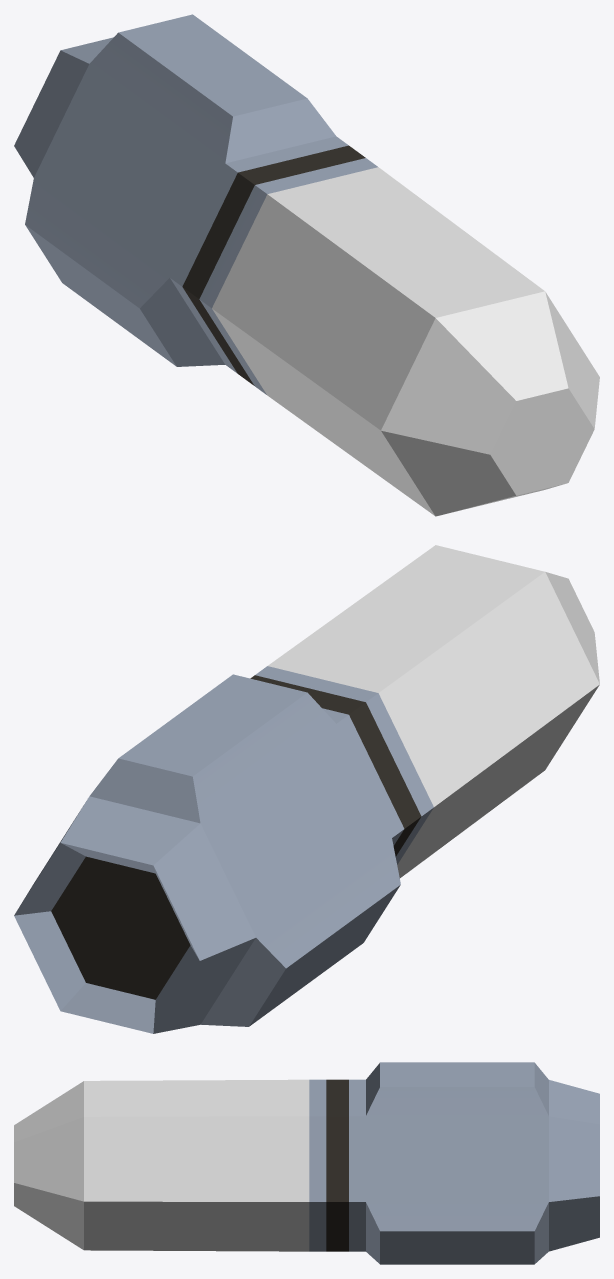
The model's file is 01_missile_grytes.glb.
3 renders of one model, top to bottom at view 1: azimuth 30°, elevation 25°; view 2: azimuth 150°, elevation 25°; view 3: azimuth 270°, elevation 25°, orthographic. The views are drawn at different scales.
Parts seen in each view (by area): view 1: 01_missile_grytes; view 2: 01_missile_grytes; view 3: 01_missile_grytes.
Part boxes in pixels (box(x1,y1,x2,y2)): 01_missile_grytes: box(14, 14, 599, 516); 01_missile_grytes: box(14, 545, 599, 1033); 01_missile_grytes: box(14, 1062, 599, 1264).
Bounding box in the file's own units: 0.3335 × 0.2889 × 0.9633.
